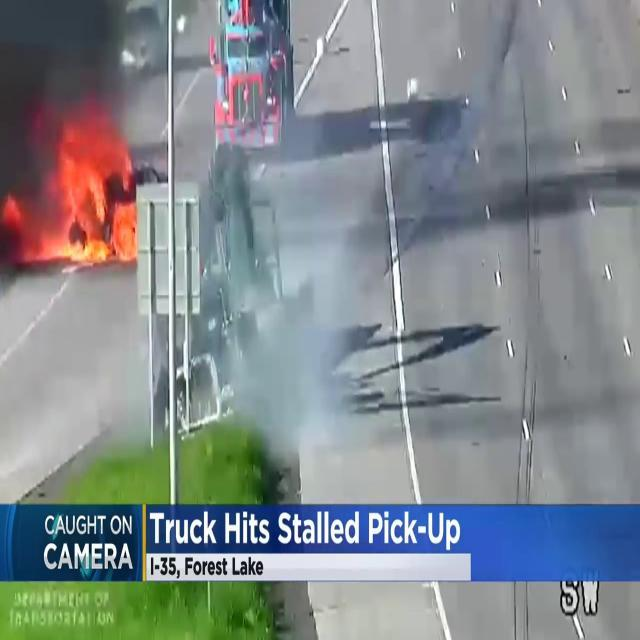Fire: (34, 111, 140, 266)
Smoke: (216, 122, 376, 474), (0, 0, 142, 190)
